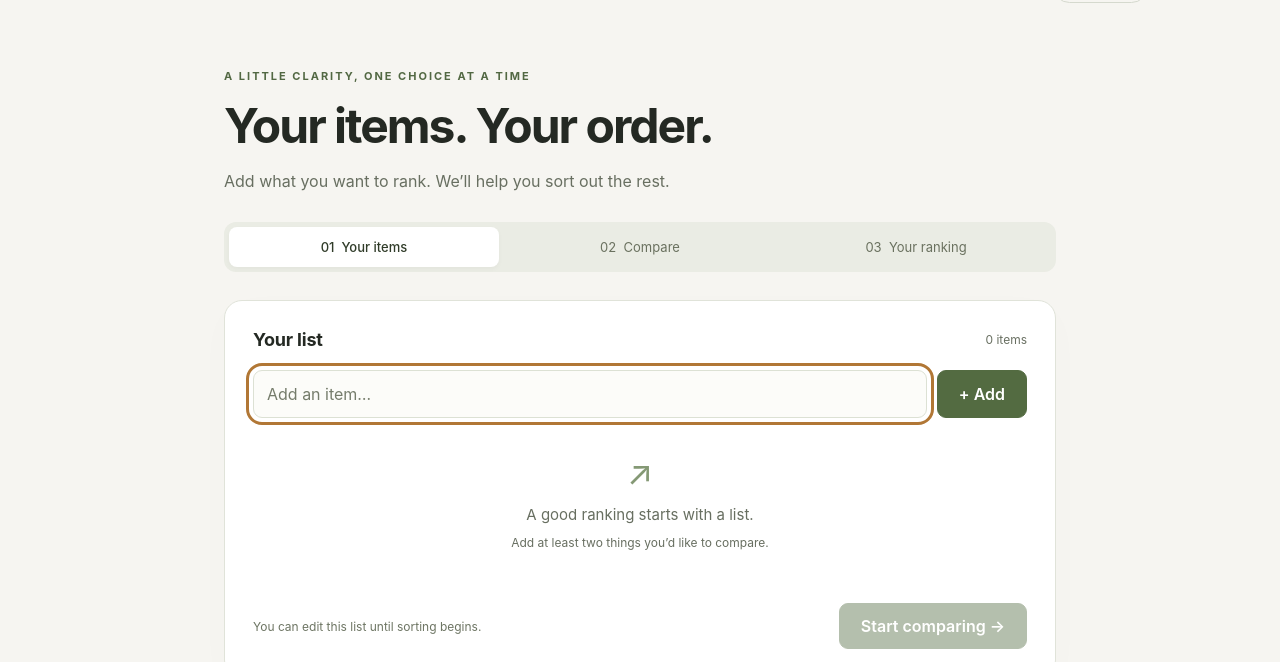
allows in-memory work when acquiring localStorage throws
Type "Still works" into the field named "New item" at (590, 394), box [253,370,927,418]
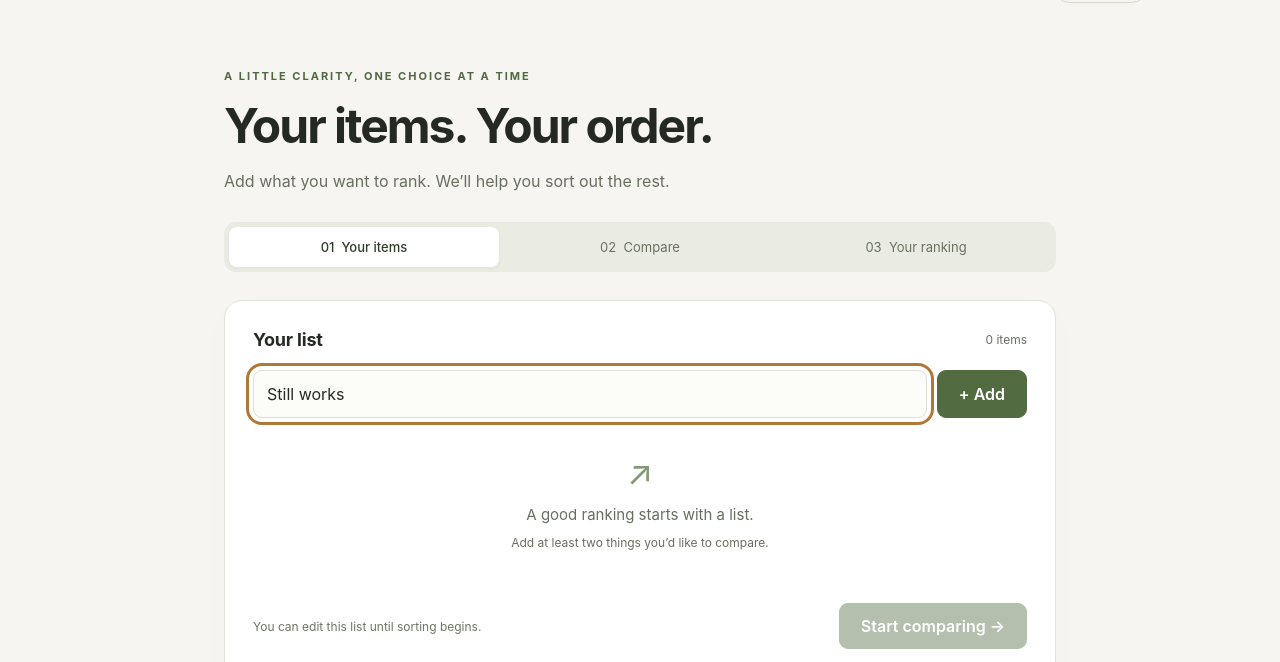
Click the button "+ Add" at (982, 394), box [937,370,1027,418]
(page scrolled)
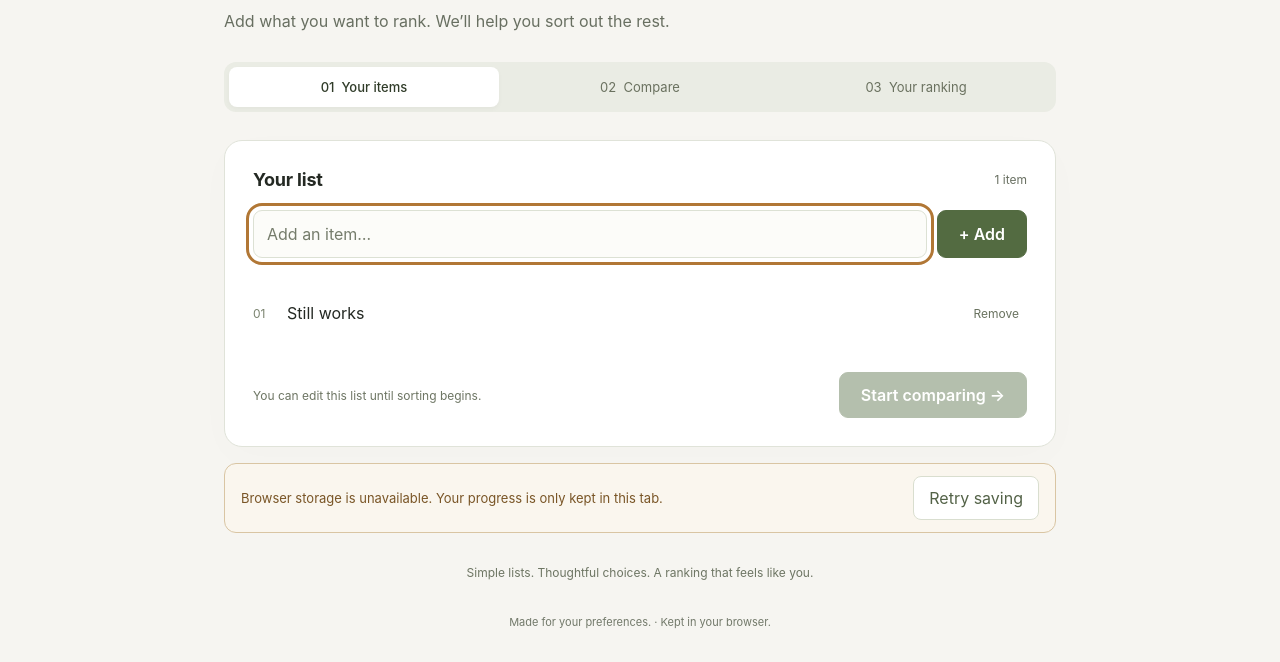
Expected: the text "Browser storage is unavailable. Your progress is only kept in this tab." is shown, [241,488,663,509]
Result: the text "Still works" is shown at [287,303,364,323]
